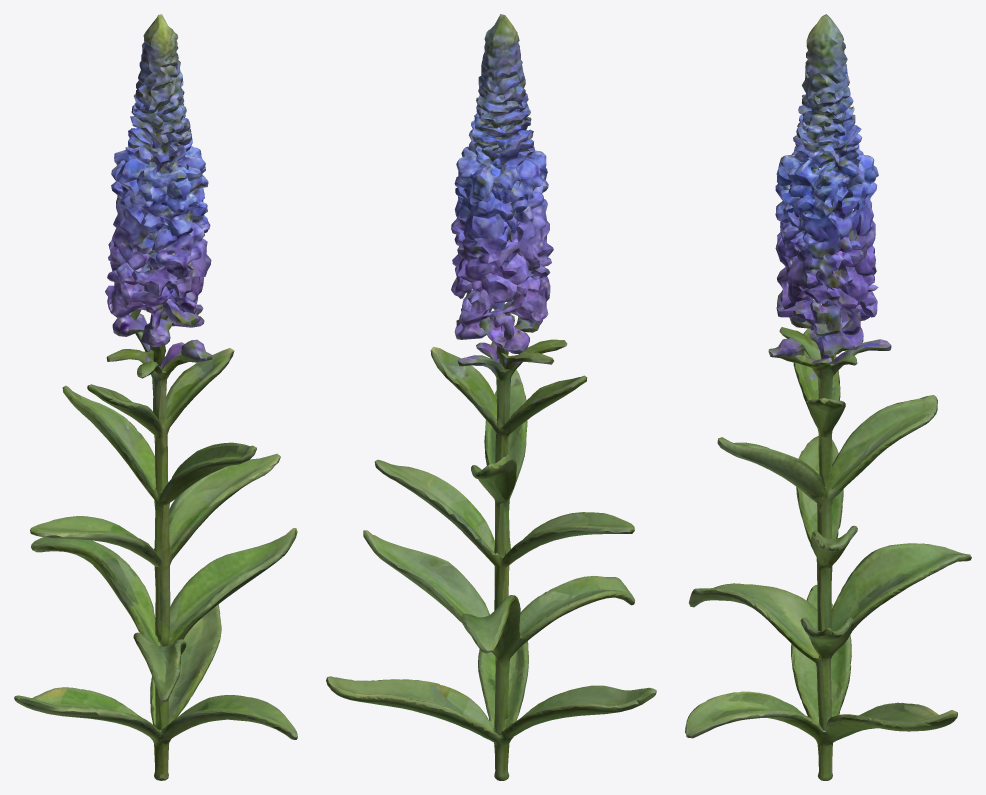
Rendered from lux-veronica.glb.
3 views of the same model, side by side, from view 1: azimuth 30°, elevation 25°; view 2: azimuth 150°, elevation 25°; view 3: azimuth 270°, elevation 25° (orthographic).
Visible parts, largest first — view 1: geometry_0; view 2: geometry_0; view 3: geometry_0.
Boxes of the visible parts, x1=… form: geometry_0: x1=14, y1=14, x2=297, y2=780; geometry_0: x1=326, y1=14, x2=656, y2=780; geometry_0: x1=685, y1=14, x2=971, y2=780.
Size of the model in its own units: 0.236 by 0.6 by 0.2043.
Materials: 1 (1 with a texture image).
